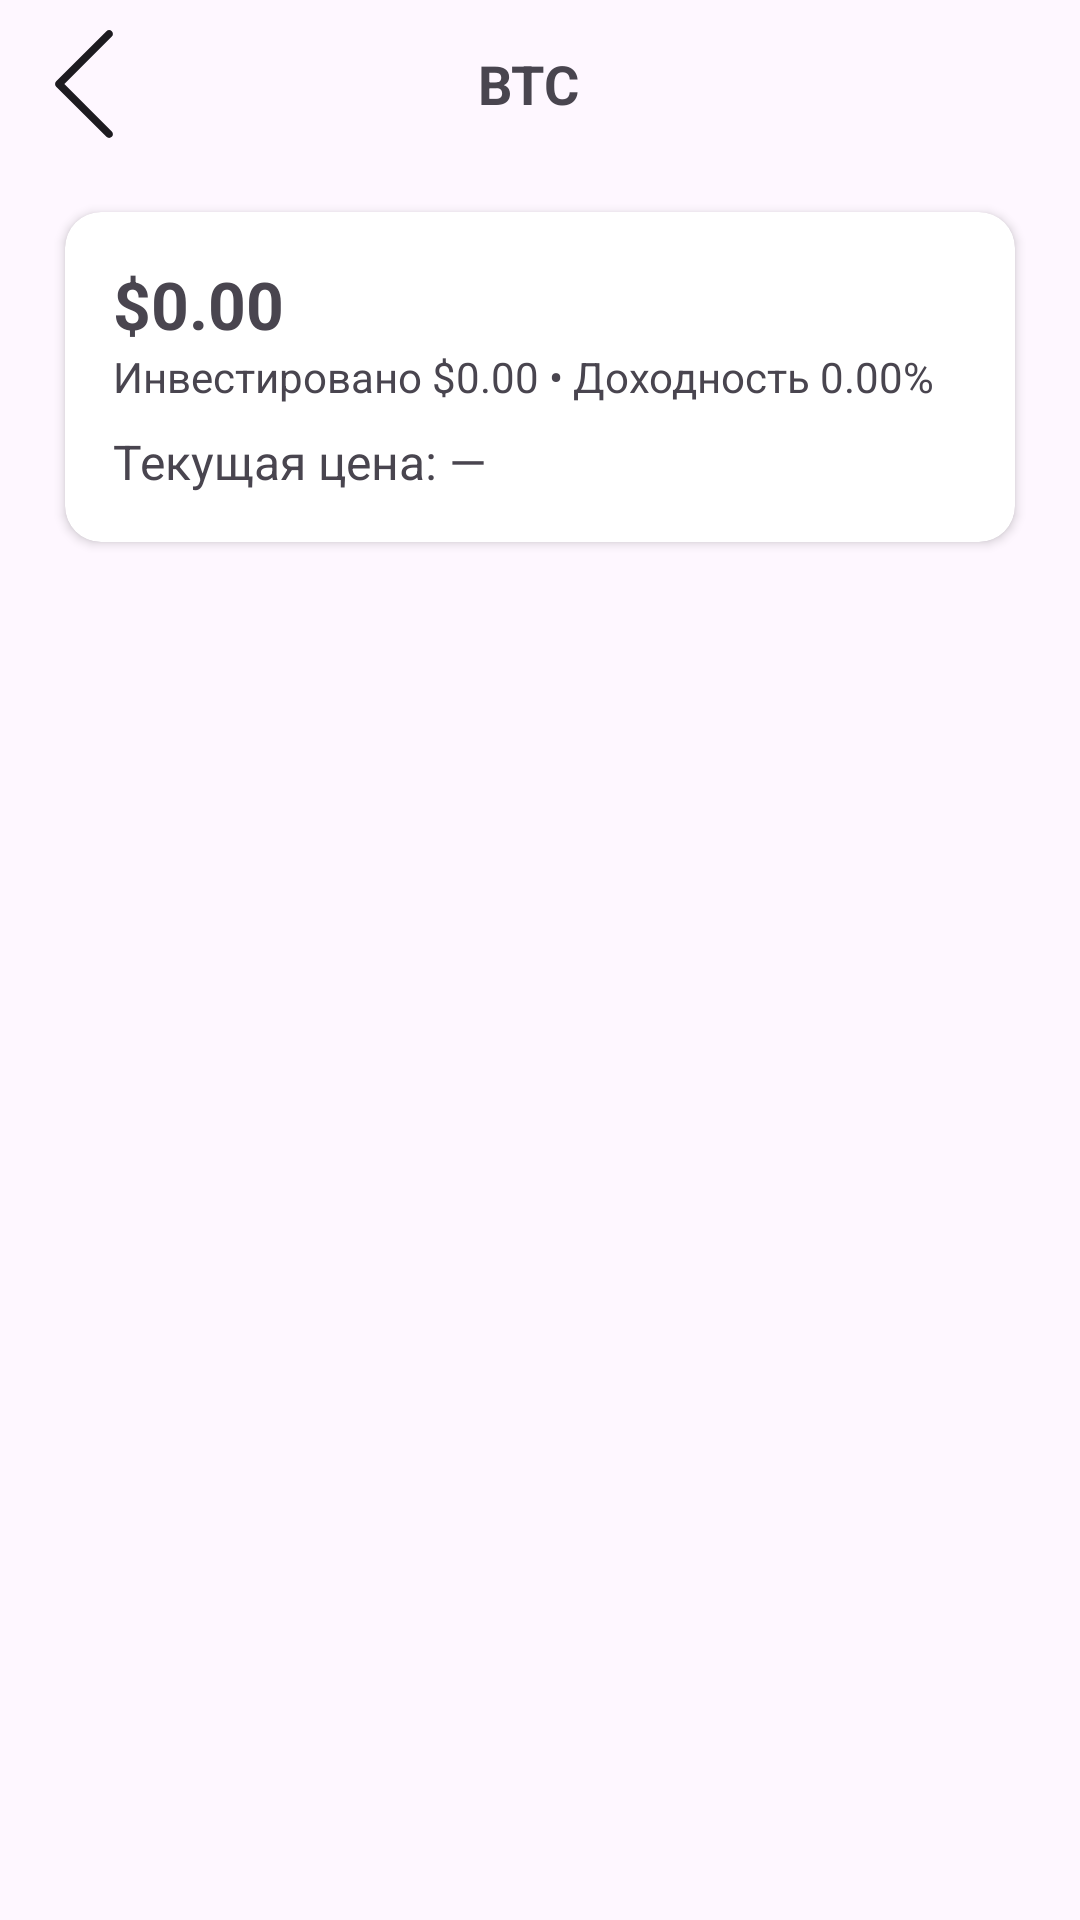

Where icons sit on this 1080w x 1920h app screen, as (x1, y1, x2, y2):
arrow back: (55, 30, 113, 138)
